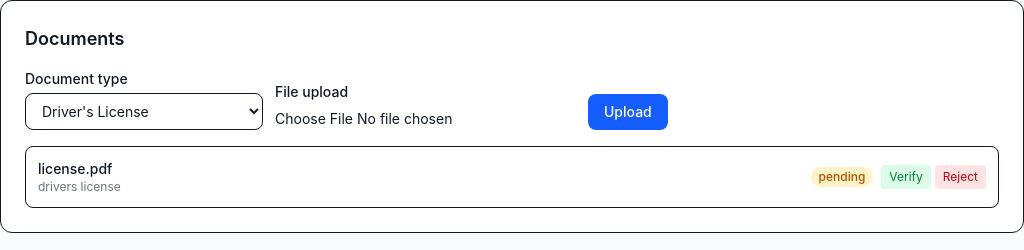
Test: DocumentUpload › should verify a document
The image size is (1024, 250).
Step 1. Click the button "Verify" → (906, 177), box [881,165,931,189]
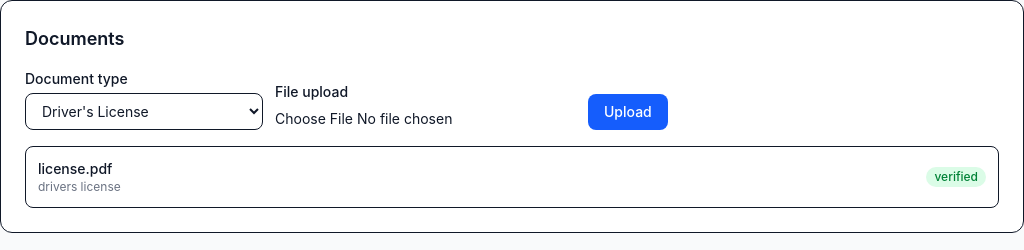
Expected: the text with test id "doc-status" reads "verified", [934,169,978,184]
